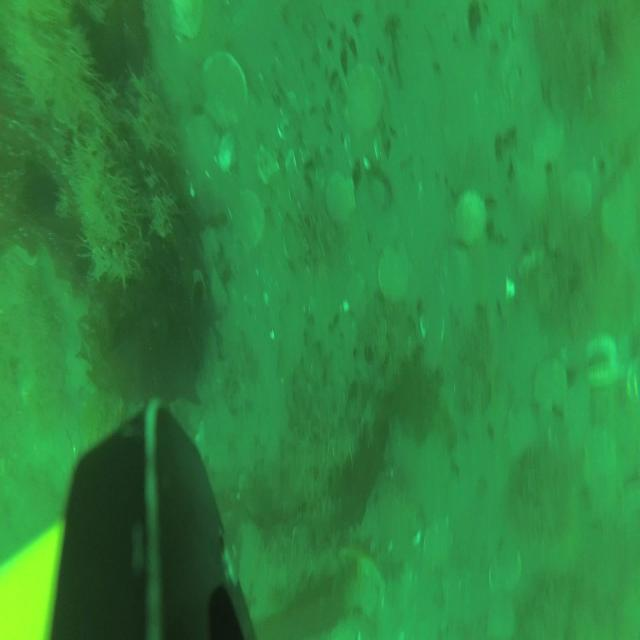scallop: (202, 54, 251, 126), (345, 66, 386, 131), (446, 562, 486, 624), (230, 192, 264, 246), (380, 241, 412, 298), (533, 357, 567, 409), (563, 169, 593, 226), (326, 170, 358, 222), (457, 192, 489, 244), (424, 518, 454, 571), (489, 544, 521, 592)
